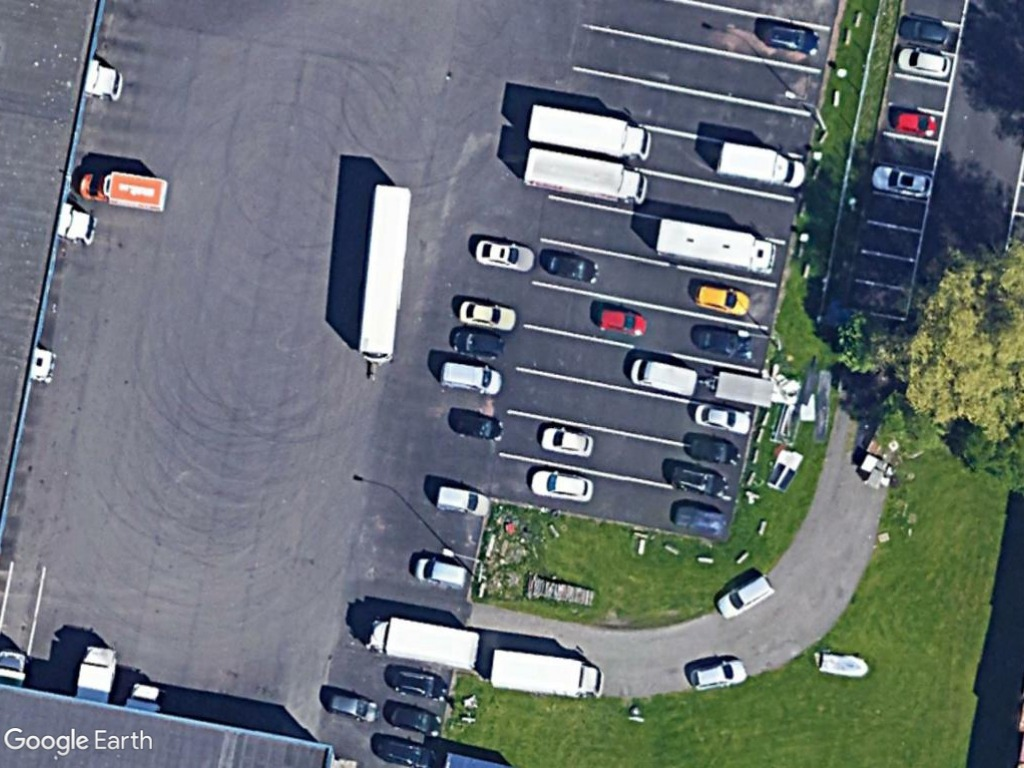car: (463, 229, 540, 280), (861, 156, 937, 204), (381, 694, 450, 745), (664, 458, 734, 505), (523, 465, 599, 508), (537, 242, 606, 289), (751, 20, 826, 63), (686, 272, 754, 319), (681, 654, 754, 696), (894, 11, 962, 55), (689, 395, 755, 439), (890, 38, 953, 83), (590, 298, 651, 342), (446, 408, 513, 447), (457, 295, 520, 335), (536, 421, 599, 461), (322, 689, 385, 729), (443, 326, 509, 363), (886, 104, 945, 143)
truck: (646, 210, 784, 283), (519, 97, 662, 167), (517, 140, 653, 207), (481, 639, 612, 706), (364, 606, 487, 676), (707, 133, 811, 193), (71, 163, 179, 216)
van: (622, 349, 704, 399), (431, 353, 512, 402), (711, 571, 778, 624), (425, 480, 497, 520), (410, 553, 476, 594)
